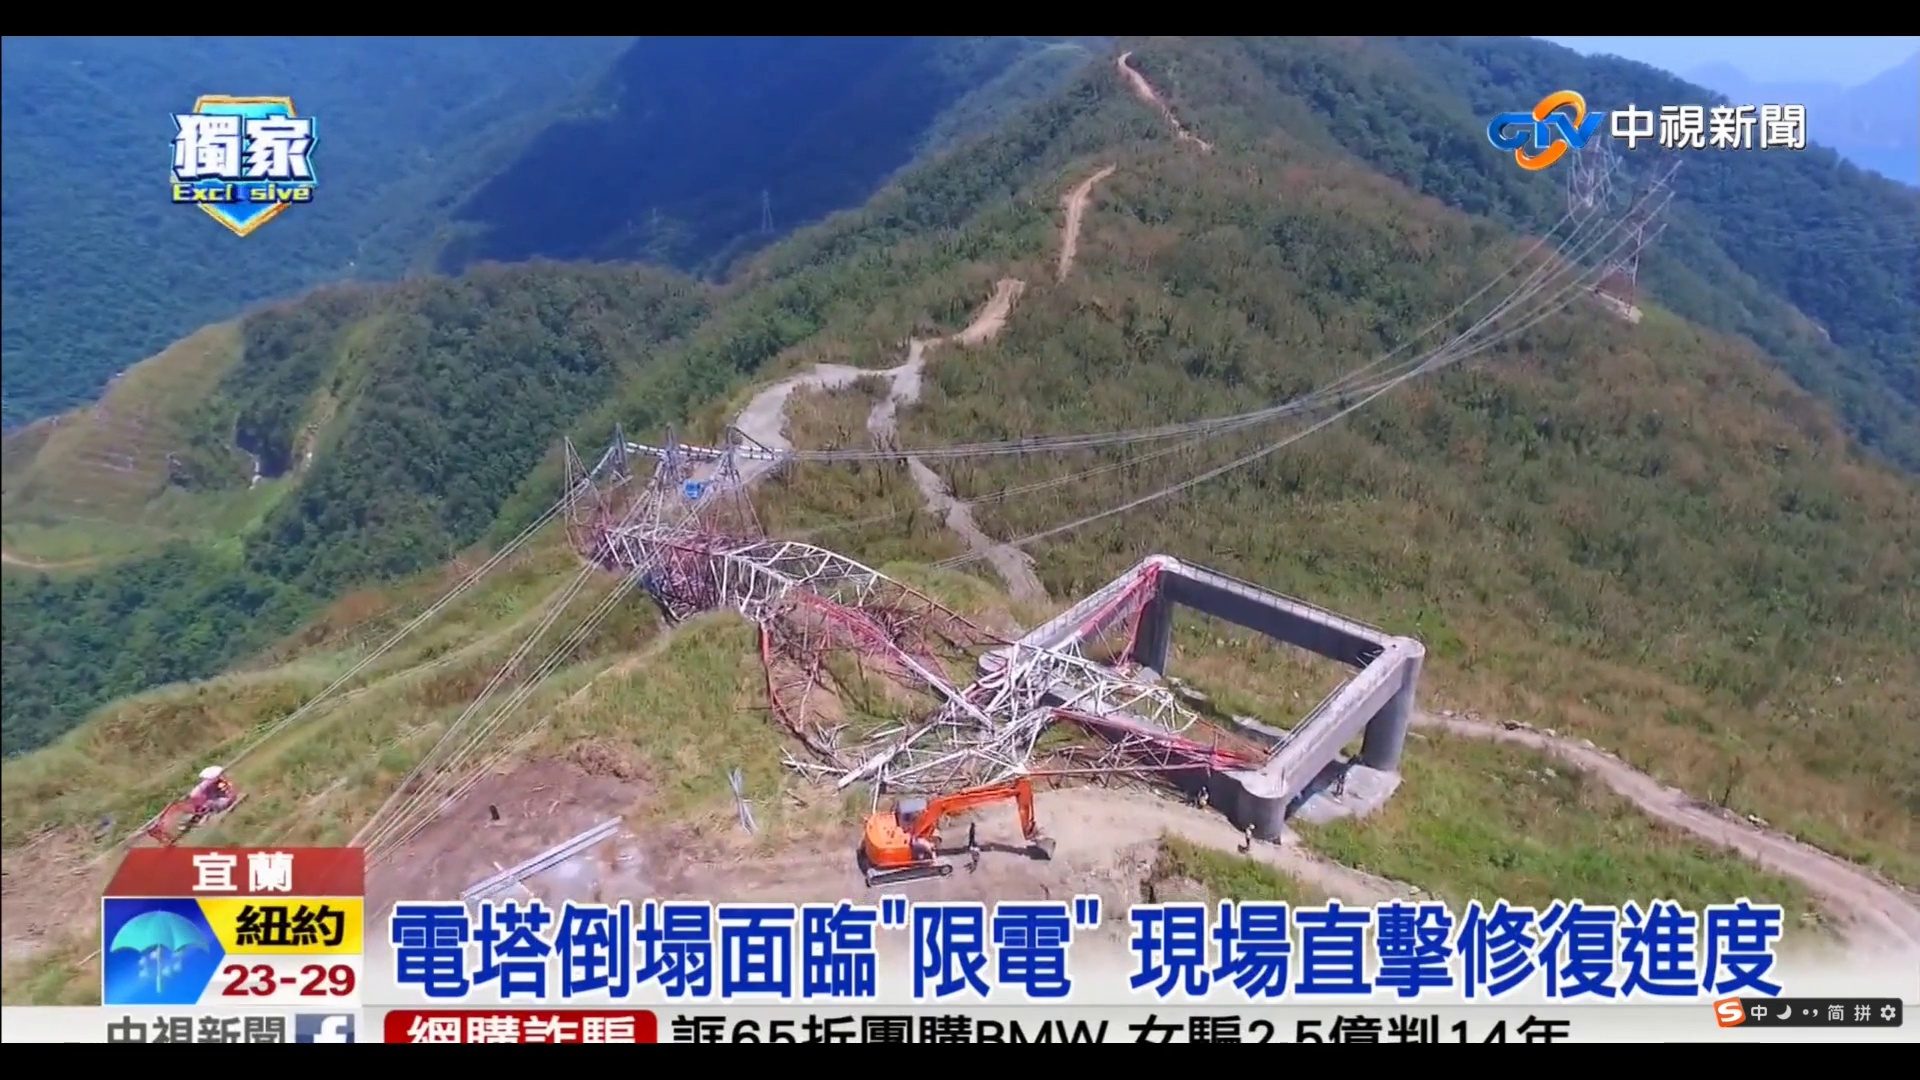tower_down: (556, 454, 1261, 808)
